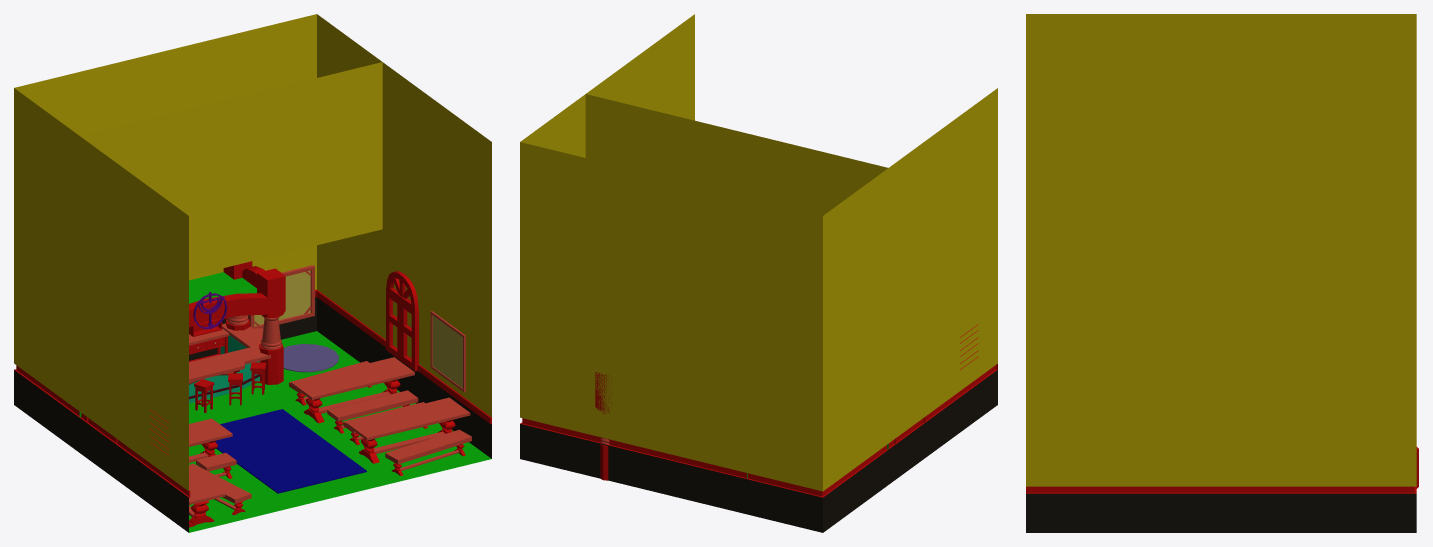
File: Main.fbx
3 views of the same model, side by side, from view 1: azimuth 30°, elevation 25°; view 2: azimuth 150°, elevation 25°; view 3: azimuth 270°, elevation 25° (orthographic). The views are drawn at different scales.
Visible parts, largest first — view 1: Main01; view 2: Main01; view 3: Main01.
Boxes of the visible parts, x1,y1,x2,y2 form: Main01: (14,14,491,532); Main01: (520,14,997,532); Main01: (1026,14,1418,532).
Size of the model in its own units: 200 by 200 by 201.
